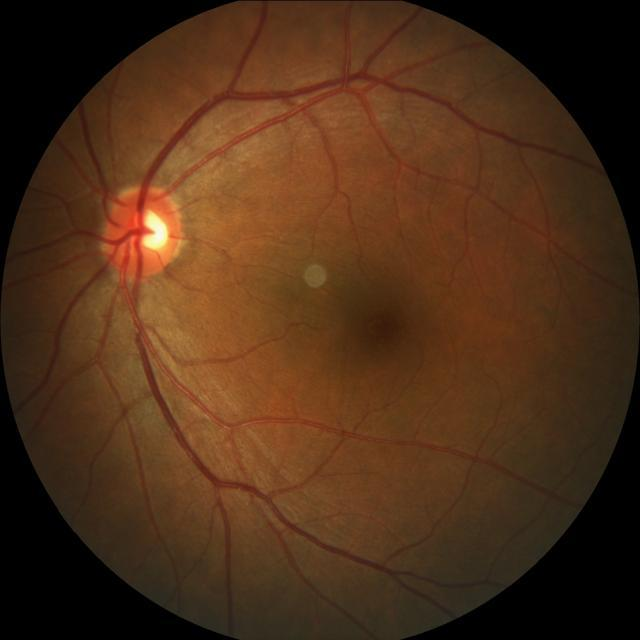OC: (128, 210, 168, 252)
OD: (104, 185, 186, 278)
